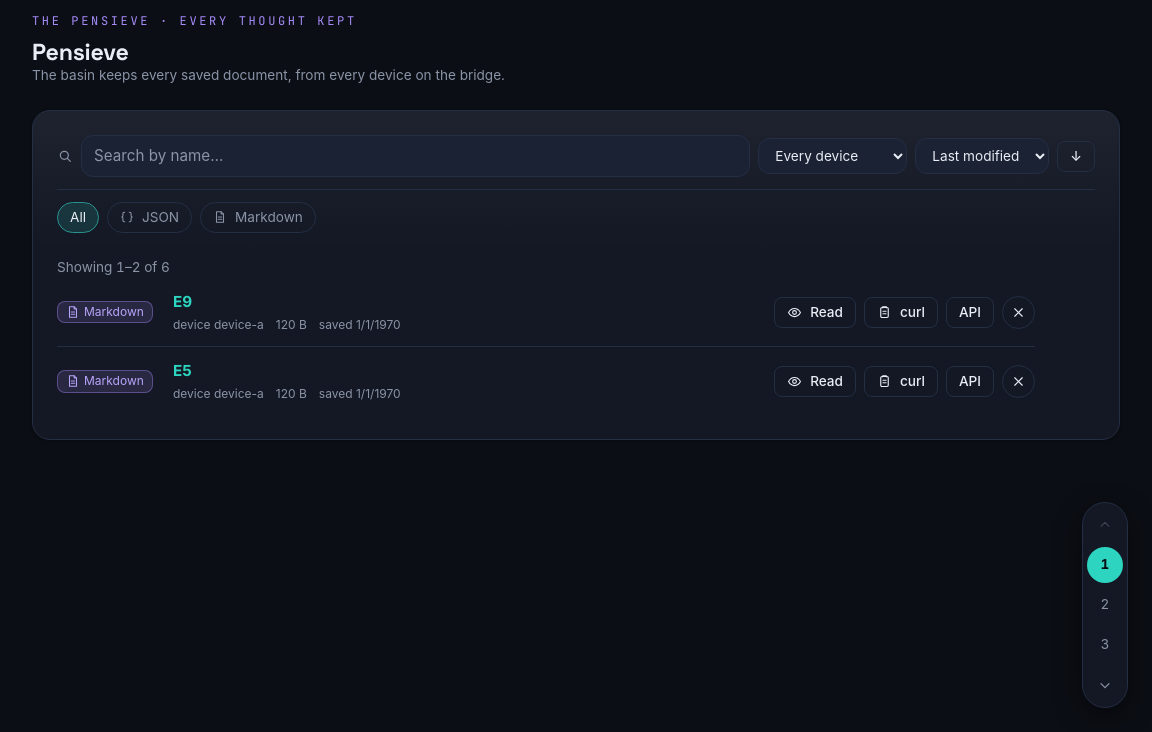
Test case: PensievePage › refetches page 1 on a live change, but only shows a chip on a later page
Click the link named "Page 2". click: (1105, 604)
box: [1101,596,1109,612]
Wait 600 ms
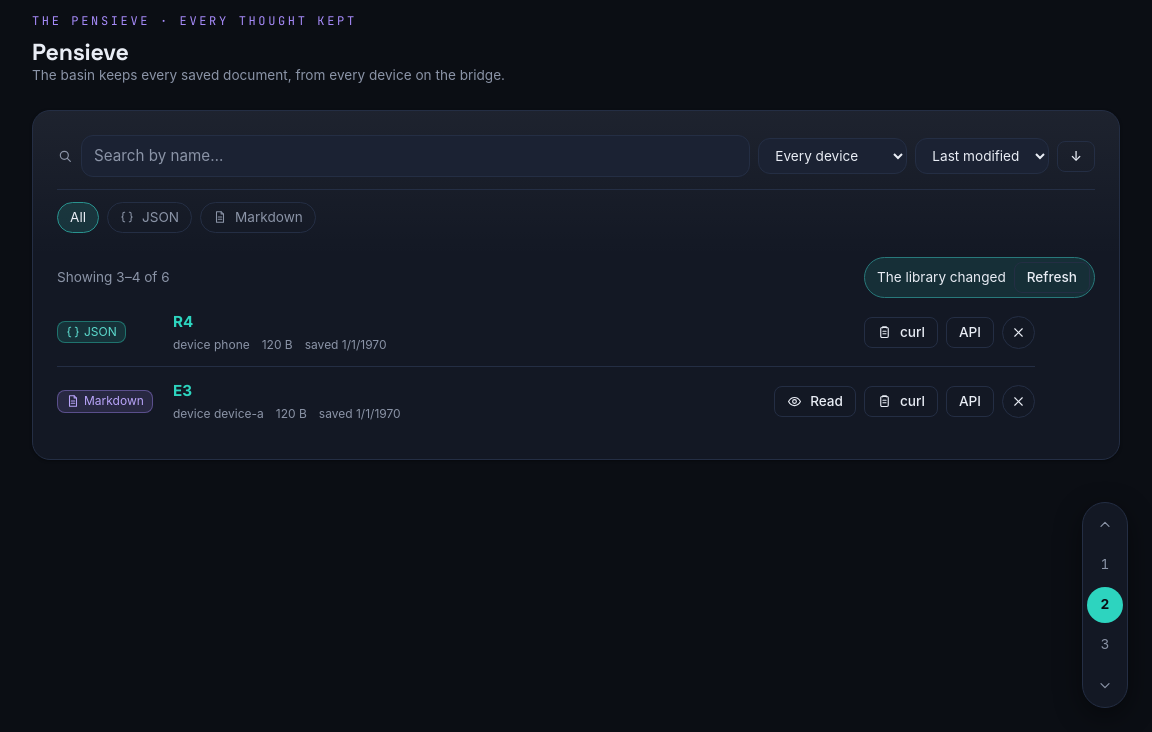
Now the message with class "lib-stale" shows "The library changed", box [877,269,1006,285]
Click the button "Refresh". click: (1052, 277)
box: [1014,262,1090,293]
Wait 300 ms
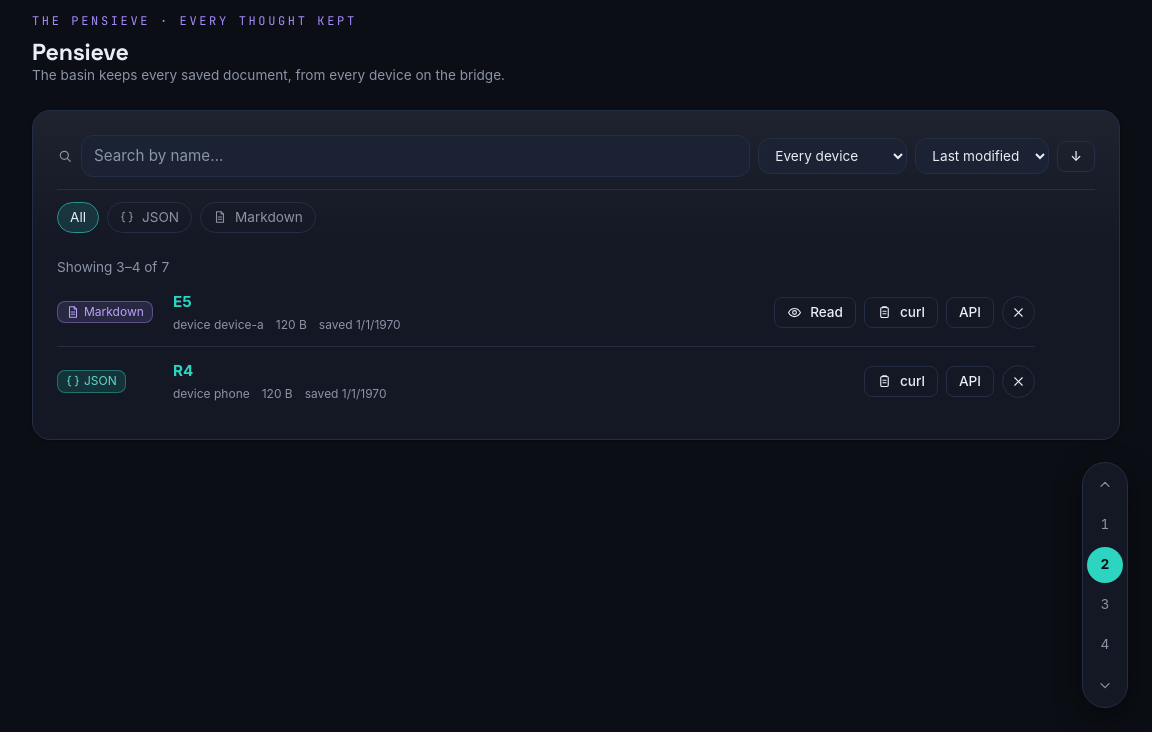
Now the message with class "lib-stale" is gone
